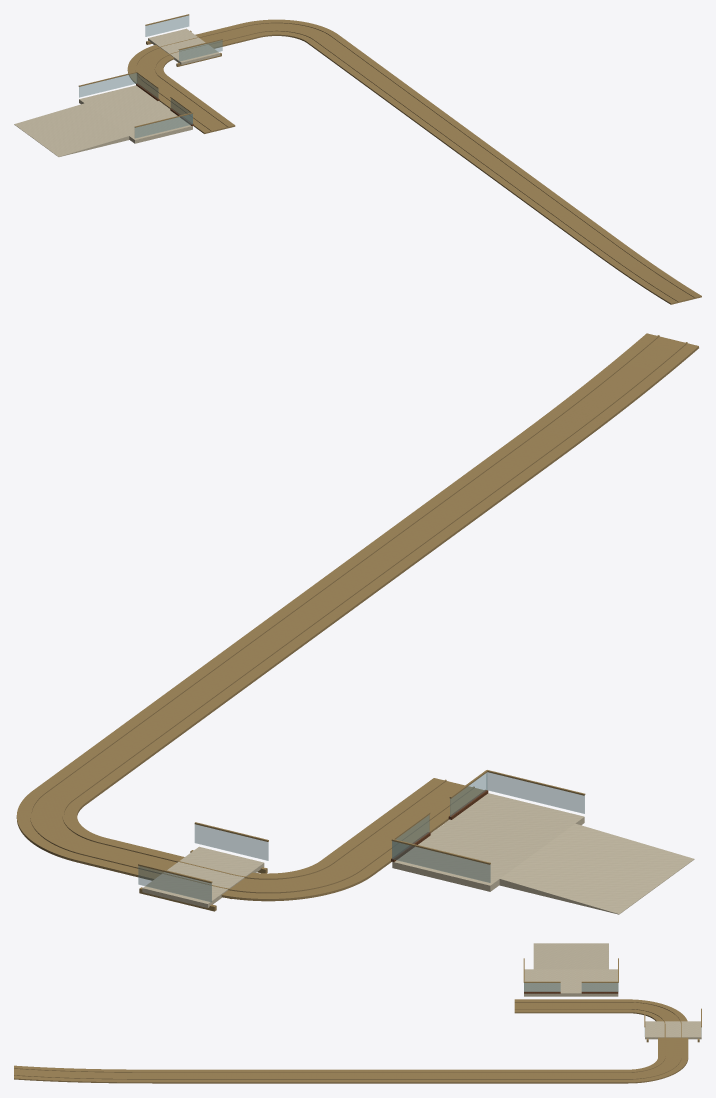
File: LowerDeparture.glb
3 views of the same model, one above another, from view 1: azimuth 30°, elevation 25°; view 2: azimuth 150°, elevation 25°; view 3: azimuth 270°, elevation 25° (orthographic). The views are drawn at different scales.
Visible parts, largest first — view 1: LowerRail_OriginalSectionWeb, FORWARD_LowerPlatform, FORWARD_AlightingRamp, FORWARD_BoardingRamp, LowerExit_MissingOnlyFloor, LowerRail_Starboard, LowerRail_Port, FORWARD_SouthReturnGlass, FORWARD_NorthReturnGlass, LowerExit_NorthGlass, LowerExit_SouthGlass; view 2: LowerRail_OriginalSectionWeb, FORWARD_LowerPlatform, FORWARD_BoardingRamp, FORWARD_AlightingRamp, LowerExit_MissingOnlyFloor, LowerRail_Starboard, LowerRail_Port, FORWARD_NorthReturnGlass, FORWARD_SouthReturnGlass, LowerExit_SouthGlass, LowerExit_NorthGlass; view 3: LowerRail_OriginalSectionWeb, FORWARD_LowerPlatform, LowerRail_Starboard, LowerRail_Port, FORWARD_AlightingRamp, FORWARD_BoardingRamp, LowerExit_MissingOnlyFloor, FORWARD_NorthPlatformGlass, FORWARD_SouthPlatformGlass.
Boxes of the visible parts, x1,y1,x2,y2 form: LowerRail_OriginalSectionWeb: (127,19,701,304); FORWARD_LowerPlatform: (79,85,192,143); FORWARD_AlightingRamp: (36,120,129,156); FORWARD_BoardingRamp: (14,103,106,140); LowerExit_MissingOnlyFloor: (148,28,220,64); LowerRail_Starboard: (135,22,695,297); LowerRail_Port: (154,30,678,301); FORWARD_SouthReturnGlass: (134,114,192,138); FORWARD_NorthReturnGlass: (79,73,136,97); LowerExit_NorthGlass: (145,15,189,36); LowerExit_SouthGlass: (179,40,222,61); LowerRail_OriginalSectionWeb: (16,333,698,901); FORWARD_LowerPlatform: (392,793,584,891); FORWARD_BoardingRamp: (499,851,656,914); FORWARD_AlightingRamp: (538,823,694,886); LowerExit_MissingOnlyFloor: (142,846,264,907); LowerRail_Starboard: (30,335,659,893); LowerRail_Port: (62,342,687,879); FORWARD_NorthReturnGlass: (392,841,490,882); FORWARD_SouthReturnGlass: (486,772,584,813); LowerExit_SouthGlass: (194,824,268,860); LowerExit_NorthGlass: (138,866,211,902); LowerRail_OriginalSectionWeb: (14,999,688,1083); FORWARD_LowerPlatform: (524,969,618,996); LowerRail_Starboard: (14,1001,681,1079); LowerRail_Port: (14,1008,665,1072); FORWARD_AlightingRamp: (533,943,571,969); FORWARD_BoardingRamp: (571,943,608,969); LowerExit_MissingOnlyFloor: (645,1021,701,1039); FORWARD_NorthPlatformGlass: (581,983,618,991); FORWARD_SouthPlatformGlass: (524,983,560,991).
Bounding box in the file's own units: 34.7 × 2.13 × 72.89.
Materials: 4 (3 with a texture image).
